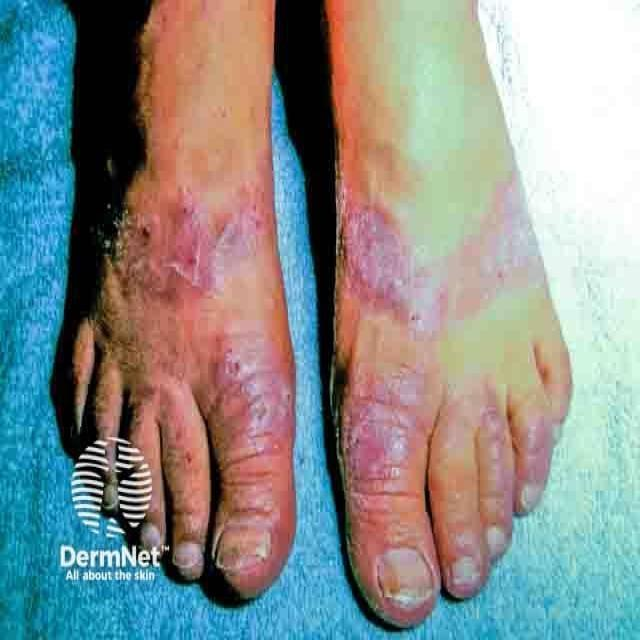Eczema: (336, 168, 564, 540), (95, 155, 303, 508)
